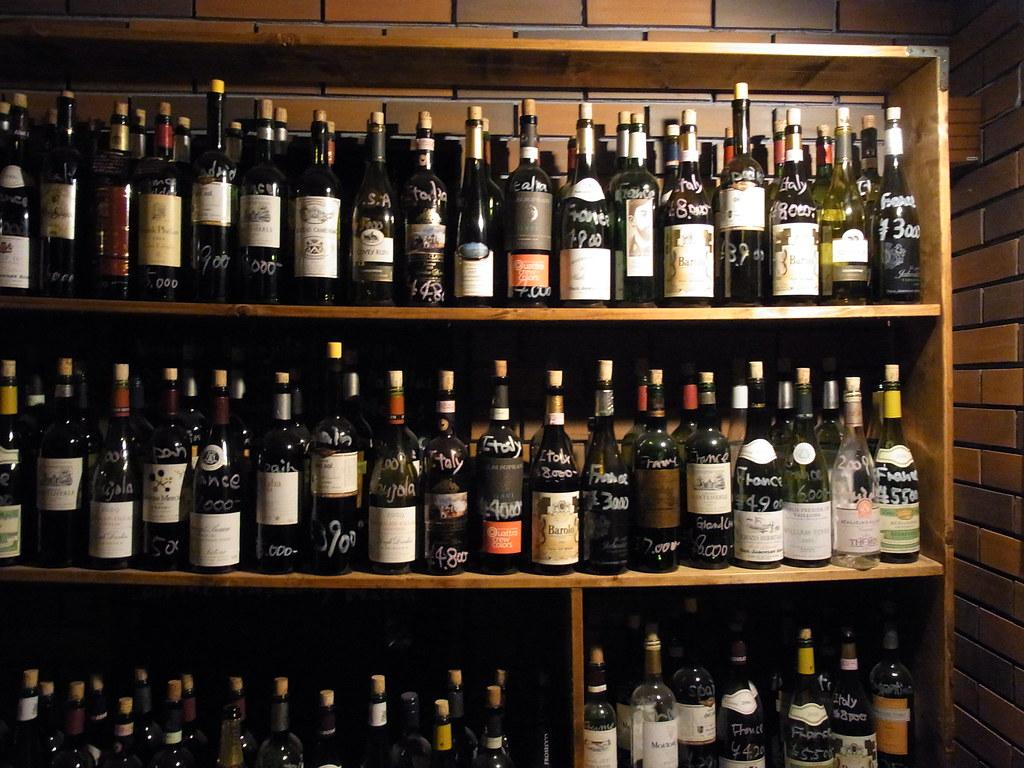bottle: (189, 369, 253, 574), (308, 342, 363, 576), (715, 82, 767, 307), (89, 363, 145, 570), (558, 102, 614, 308), (367, 370, 423, 575), (191, 79, 241, 304), (255, 371, 310, 575), (135, 102, 191, 302), (36, 357, 89, 568), (420, 369, 473, 576), (580, 360, 631, 575), (474, 360, 525, 575), (661, 110, 716, 308), (732, 361, 784, 570), (529, 368, 581, 576), (239, 99, 291, 305), (453, 106, 506, 308), (766, 108, 820, 306), (818, 107, 871, 306), (631, 369, 682, 574), (505, 99, 555, 308), (39, 91, 89, 298), (781, 367, 832, 569), (87, 99, 138, 300), (143, 367, 193, 572), (294, 110, 345, 306), (400, 111, 450, 308), (350, 111, 400, 307), (611, 112, 661, 308), (831, 377, 881, 571), (685, 372, 733, 570), (874, 364, 921, 564), (875, 106, 922, 304), (670, 597, 718, 768), (1, 94, 41, 297), (784, 628, 837, 768), (870, 612, 916, 768), (830, 627, 878, 768), (631, 630, 680, 768), (717, 638, 768, 768), (1, 359, 26, 566), (582, 647, 619, 768), (148, 680, 198, 768), (257, 677, 305, 768), (4, 669, 47, 768), (51, 681, 96, 768), (217, 677, 259, 768), (472, 685, 516, 768), (98, 697, 145, 768), (306, 689, 348, 768), (360, 674, 395, 768), (390, 692, 433, 768), (446, 670, 479, 765), (814, 378, 845, 471), (769, 379, 797, 458), (431, 699, 461, 768), (661, 121, 681, 204), (864, 383, 886, 458), (174, 117, 193, 165)
